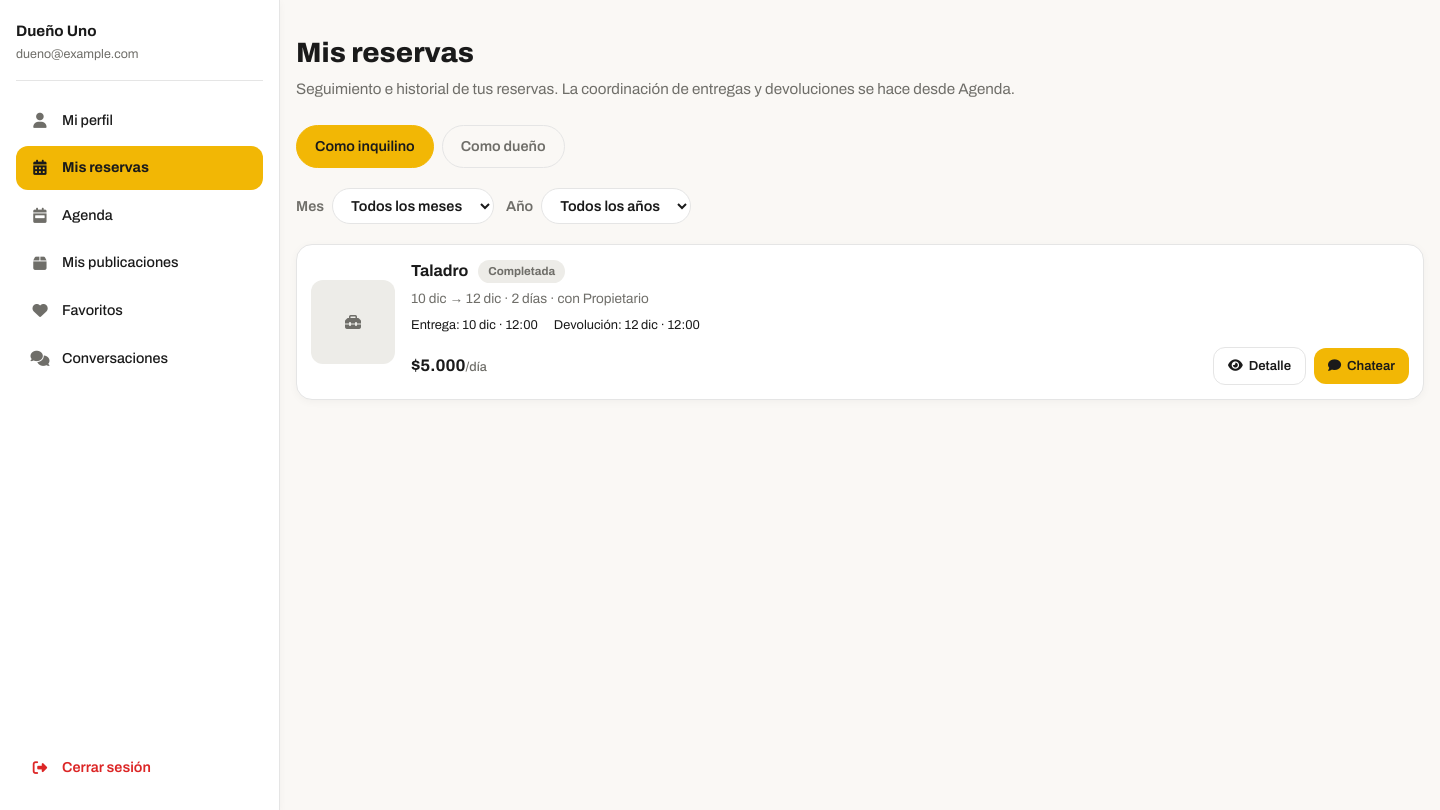
Test: Dashboard — hidratación del estado de calificación › tras hidratar no hay bucle de pedidos ante rerenders (Agenda conserva Calificar)
Check: the heading "Taladro" is shown, box [411,259,468,283]
Check: the button "calificar" is not shown
Click the button "Agenda".
click(140, 216)  # box [16,194,263,237]
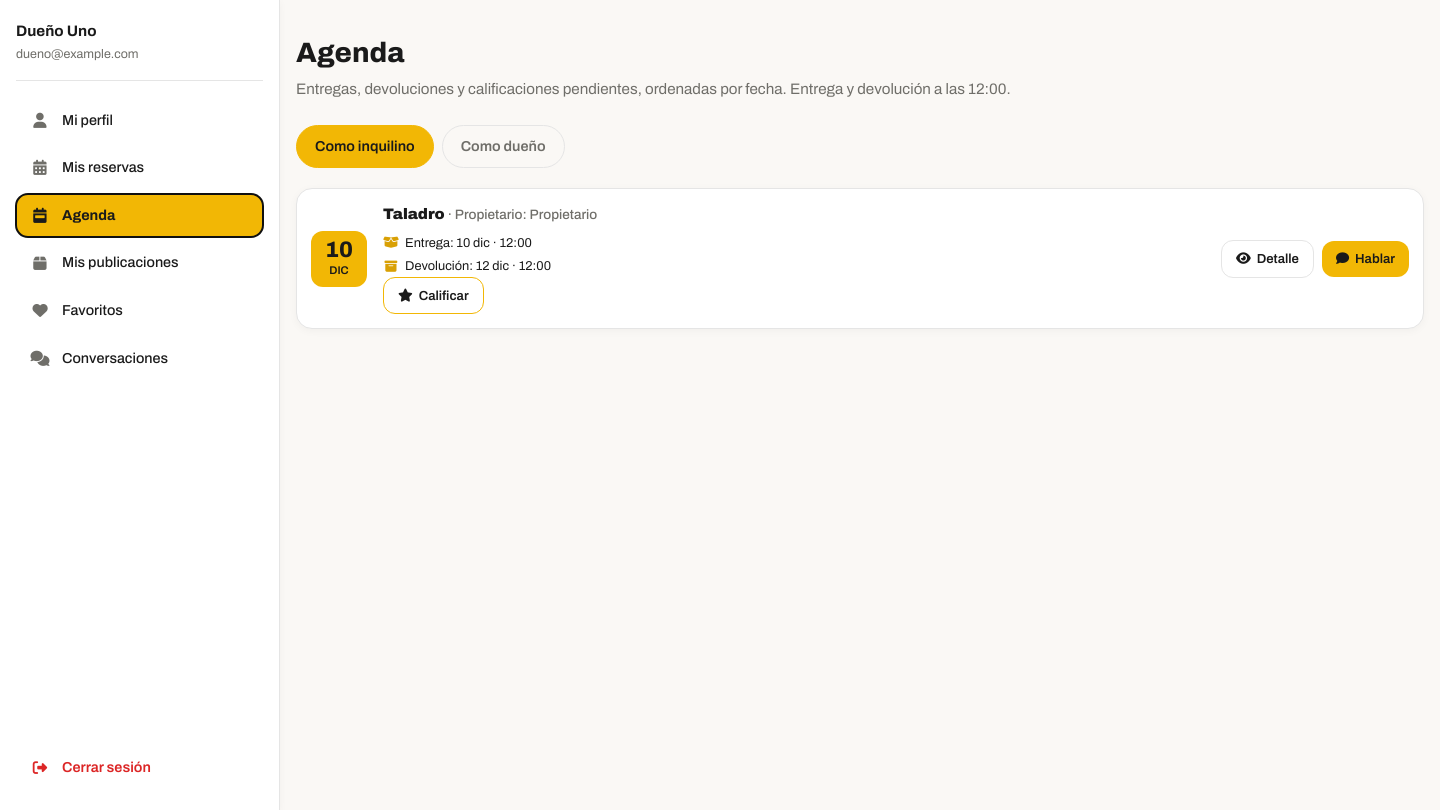
Click the button "Calificar".
click(433, 295)  # box [383,277,484,314]
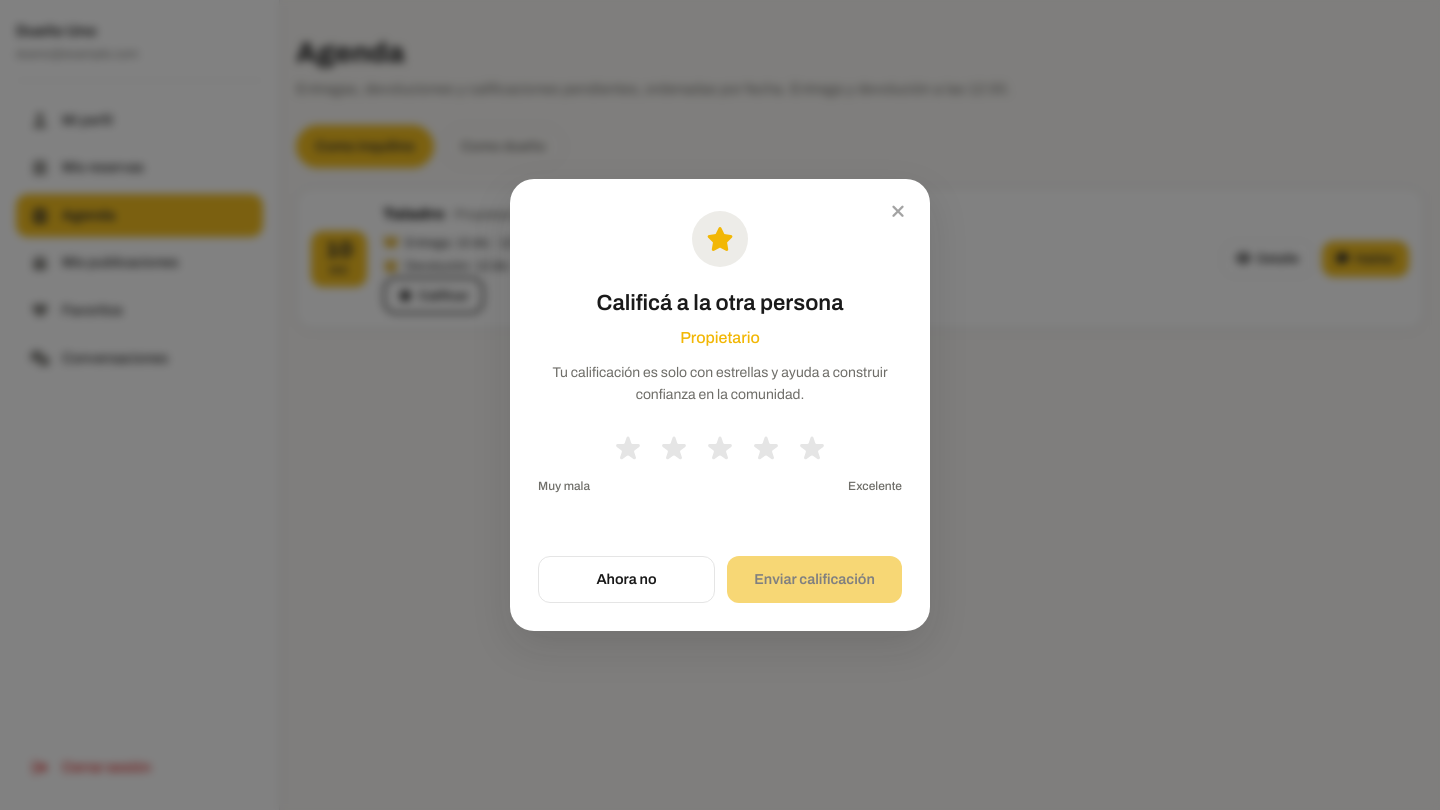
Check: the dialog is shown, box [510,179,930,631]
Note: Cerrar el modal y volver re-renderiza sin nuevos GET mine.
Click the button "Ahora no".
click(626, 579)  # box [538,556,715,603]
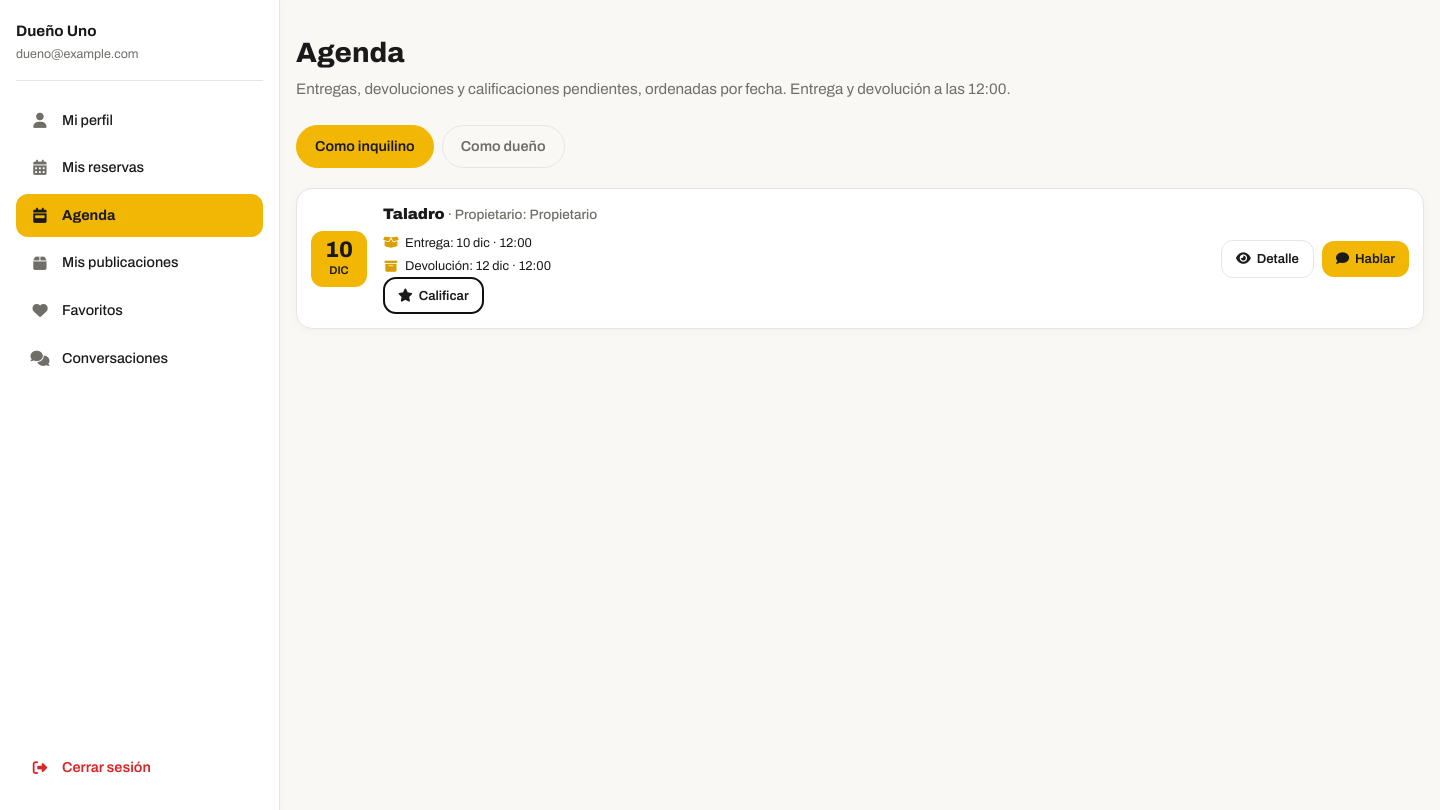
Click the button "Mis reservas".
click(140, 168)  # box [16,146,263,190]
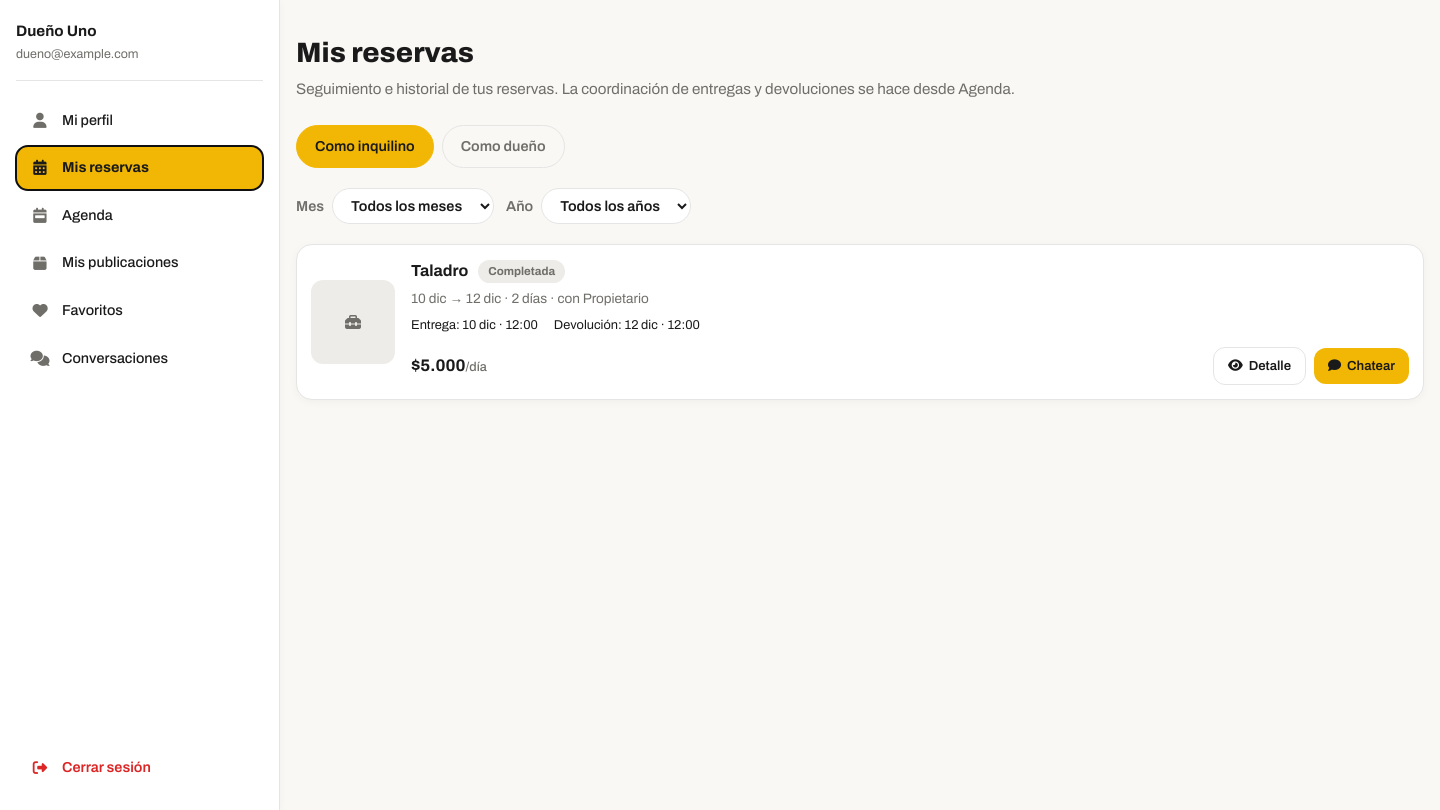
Check: the heading "Taladro" is shown, box [411,259,468,283]
Check: the button "Calificar" is gone
